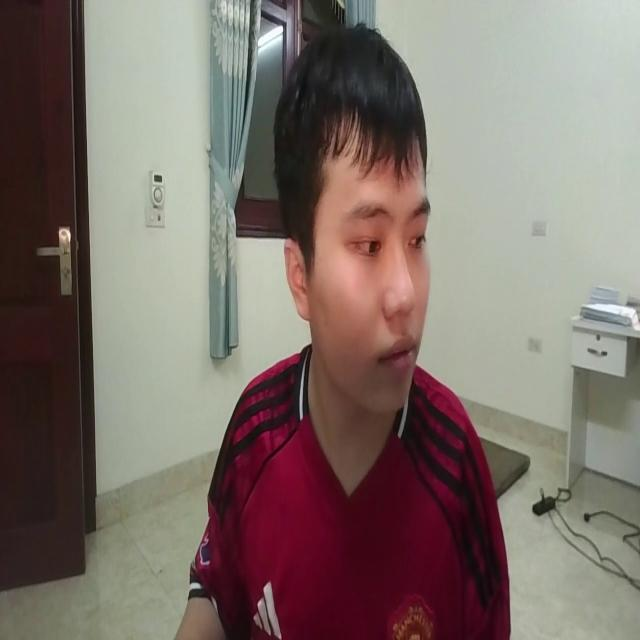student: (168, 19, 512, 640)
